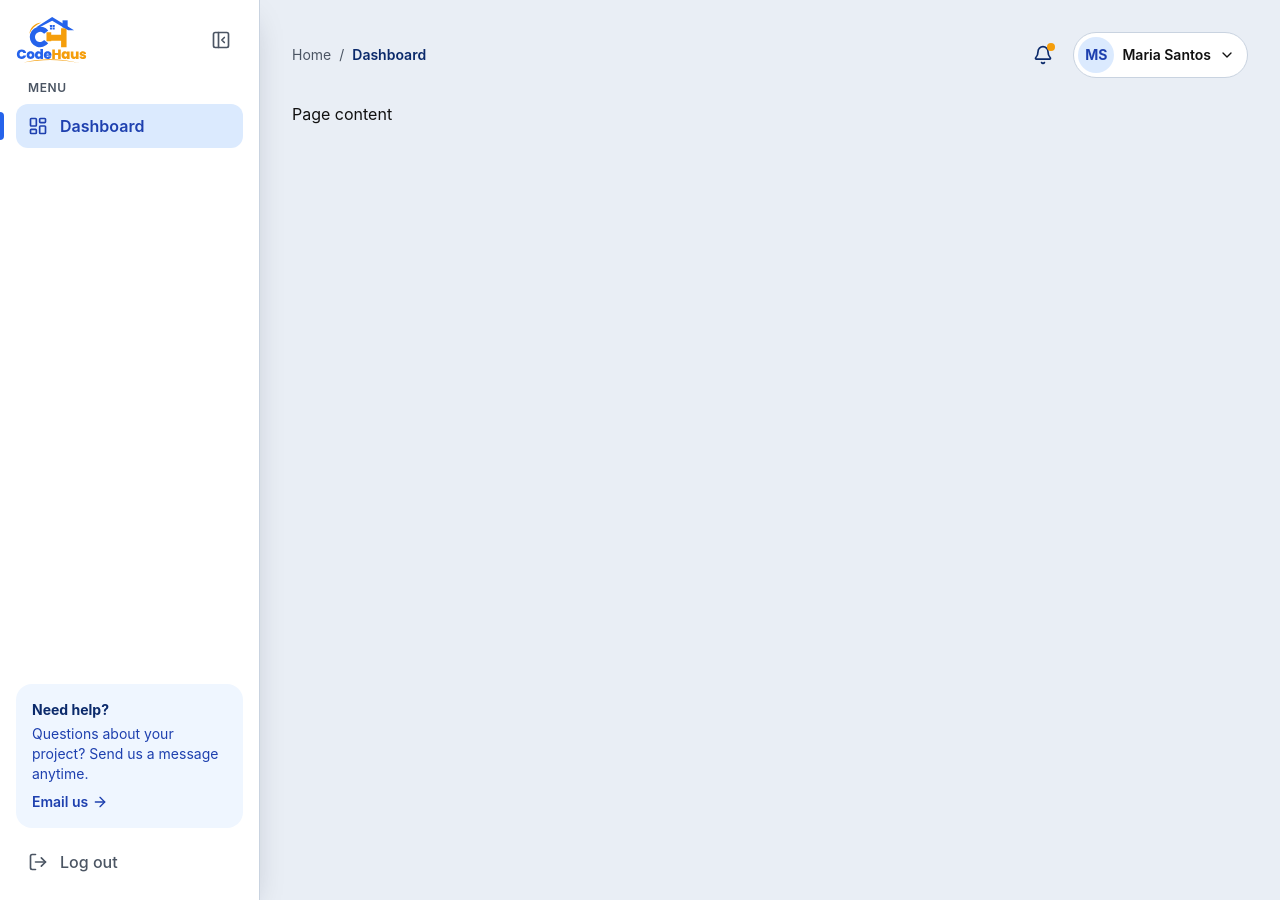
Test: collapsible sidebar › still works when localStorage throws
This screenshot has width=1280, height=900.
Click the button named "Collapse sidebar".
click(221, 40)  # box [199,18,243,62]
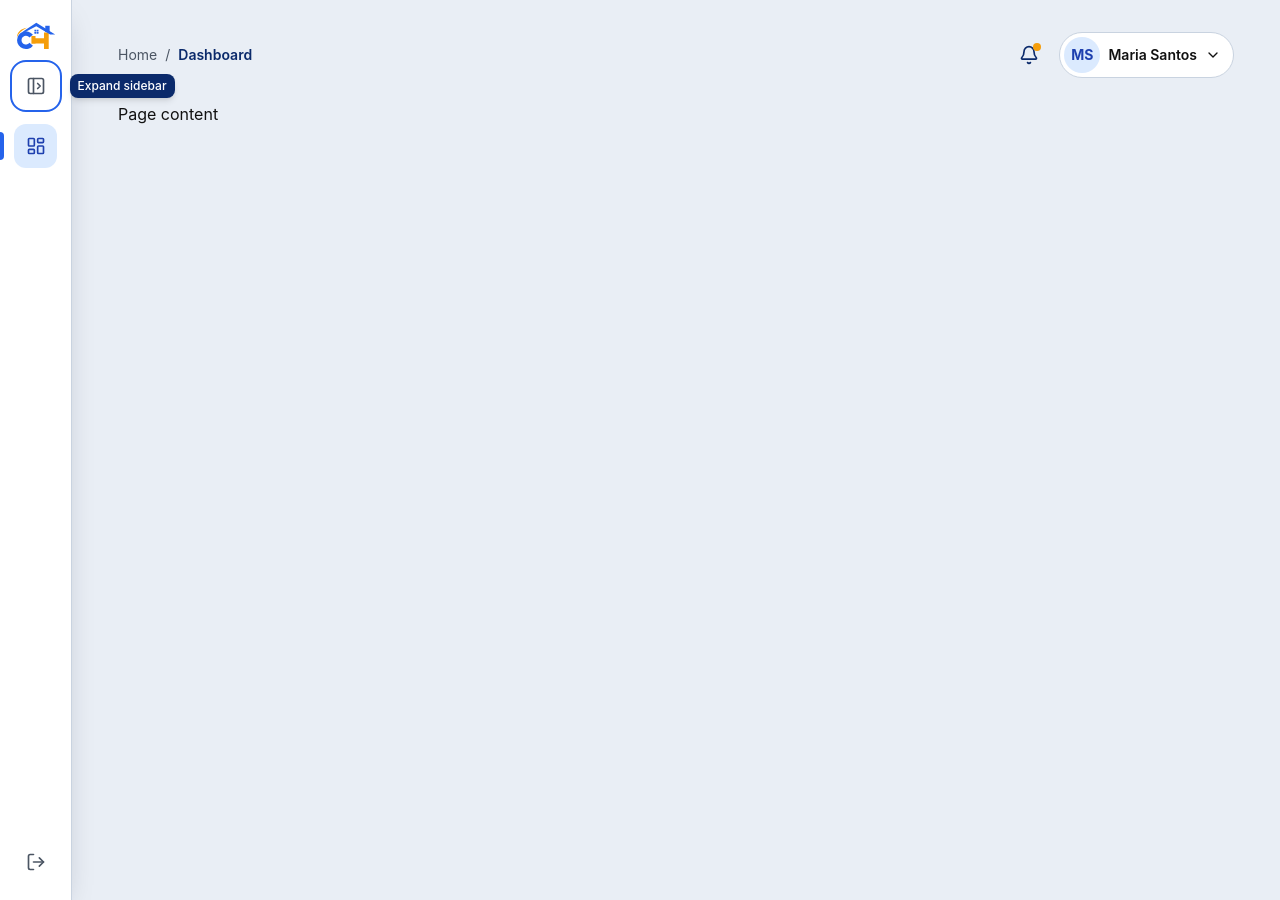
Check: the button named "Expand sidebar" is collapsed, box [14,64,58,108]
